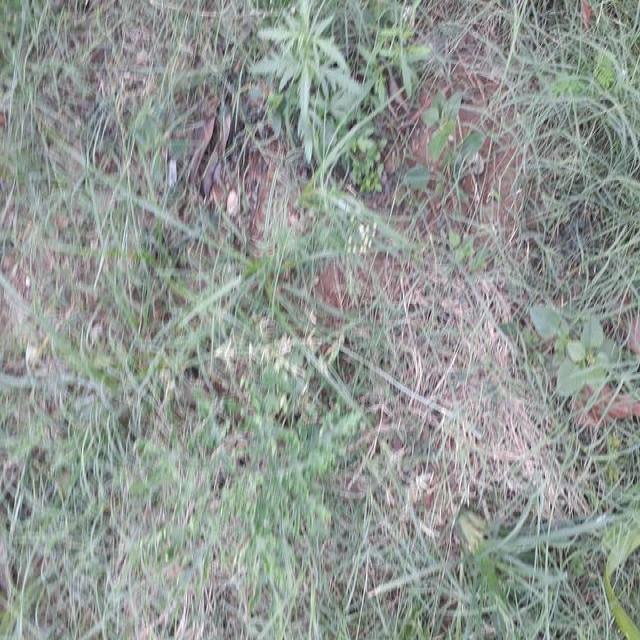weed: (166, 223, 378, 527), (406, 507, 640, 640), (257, 4, 364, 136), (524, 307, 638, 401), (370, 0, 451, 88)
